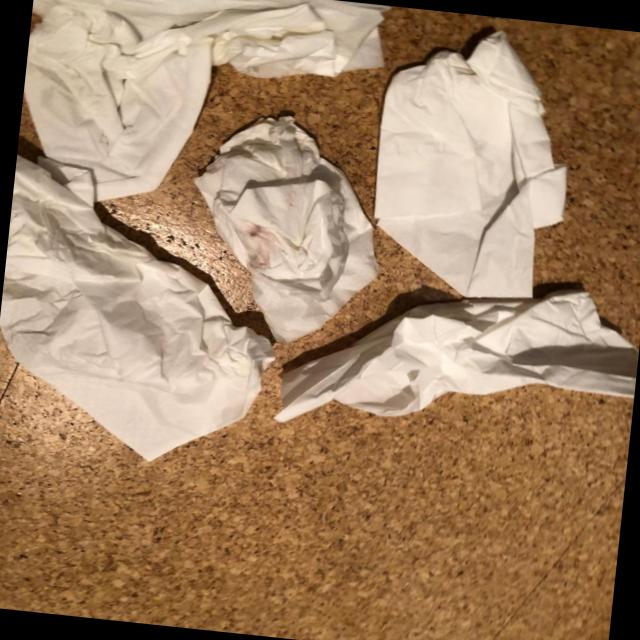organic waste: (0, 146, 296, 478), (12, 0, 400, 230), (268, 255, 640, 459), (364, 18, 592, 309), (166, 99, 401, 354)
